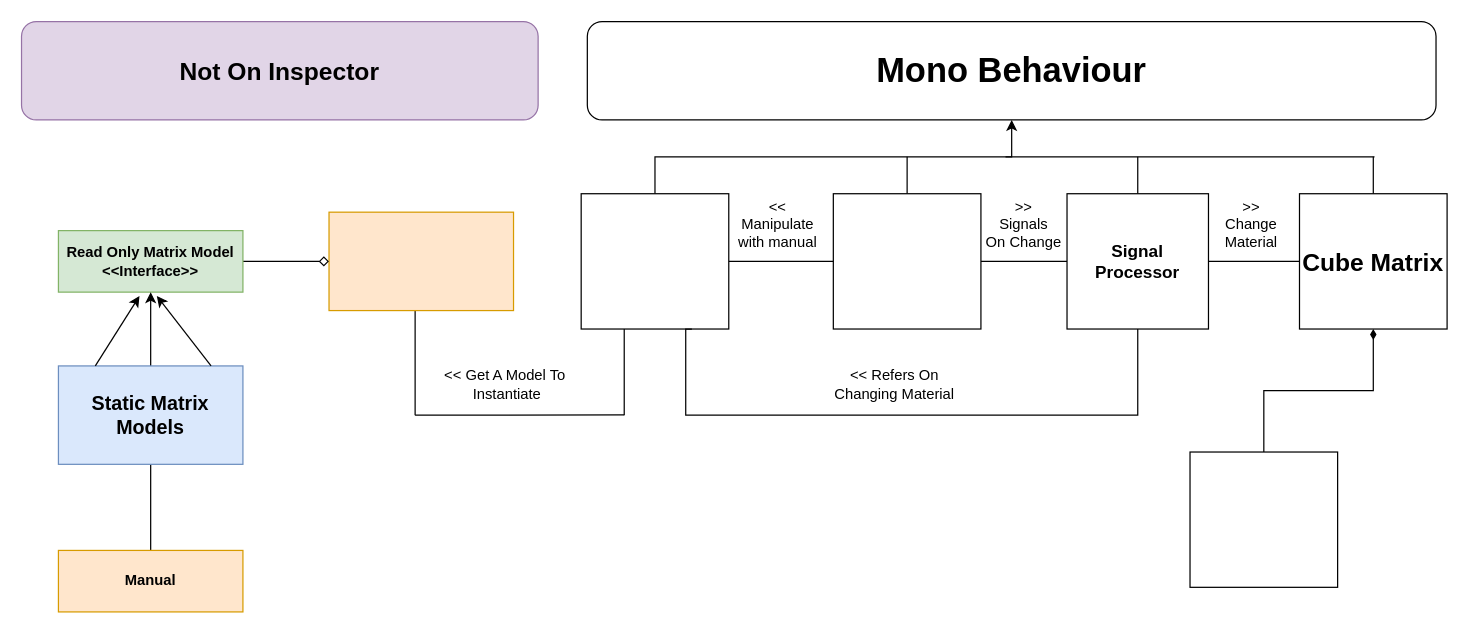
The diagram is 1469 pixels wide and 633 high, and some of its shapes have lost their labels. Here are the shapes that lost their labels. From the top down, the box of each, then its label:
(328, 211, 514, 311): Matrix Model Dictionary
(580, 192, 729, 329): Color Matrix Instance
(832, 192, 981, 329): Colour Matrix Shifter
(1189, 451, 1338, 587): Cubes (Level)
